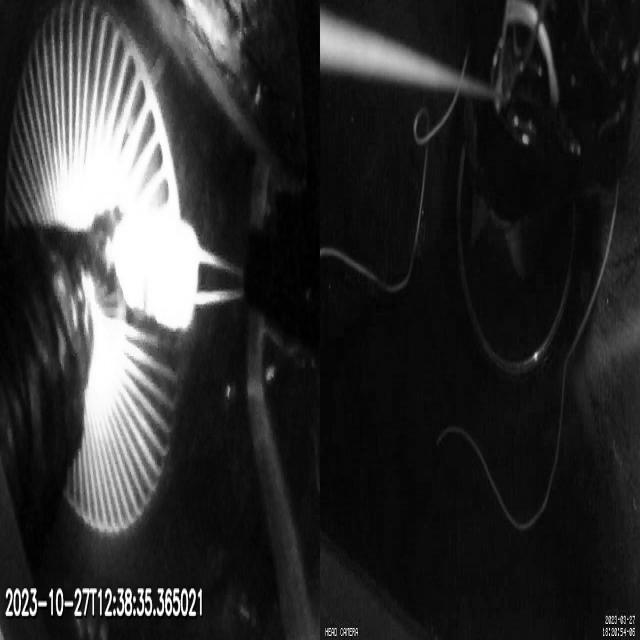head: (121, 205, 199, 333)
